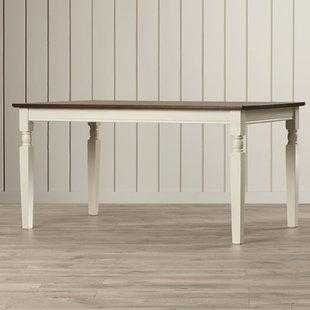obstacle: (13, 101, 303, 243)
